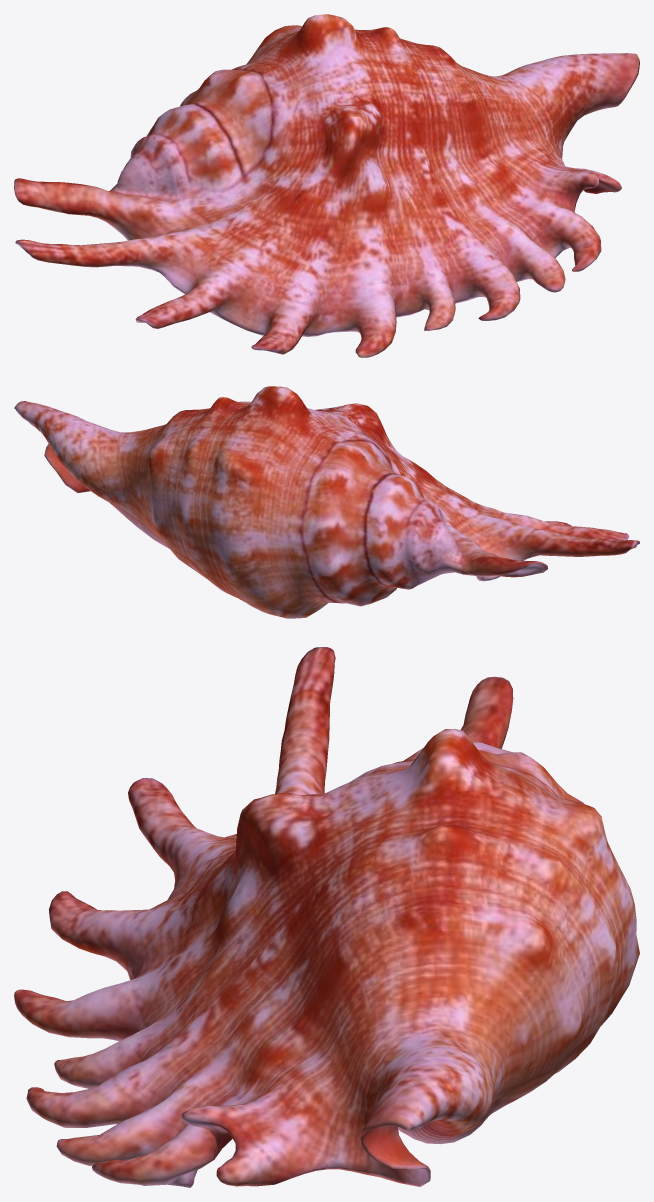
The model's file is nyb_splash_shell.glb.
3 views of the same model, one above another, from view 1: azimuth 30°, elevation 25°; view 2: azimuth 150°, elevation 25°; view 3: azimuth 270°, elevation 25° (orthographic). The views are drawn at different scales.
Visible parts, largest first — view 1: lambis_shell; view 2: lambis_shell; view 3: lambis_shell.
Part boxes in pixels (x1=…): lambis_shell: x1=14, y1=14, x2=639, y2=357; lambis_shell: x1=14, y1=386, x2=639, y2=618; lambis_shell: x1=14, y1=647, x2=639, y2=1187.
Bounding box in the file's own units: 0.1395 × 0.0465 × 0.0746.
Materials: 1 (1 with a texture image).
